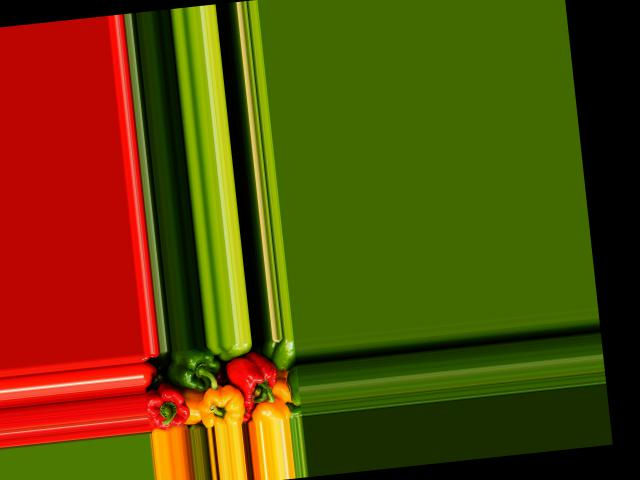bell_pepper: (145, 380, 196, 431)
